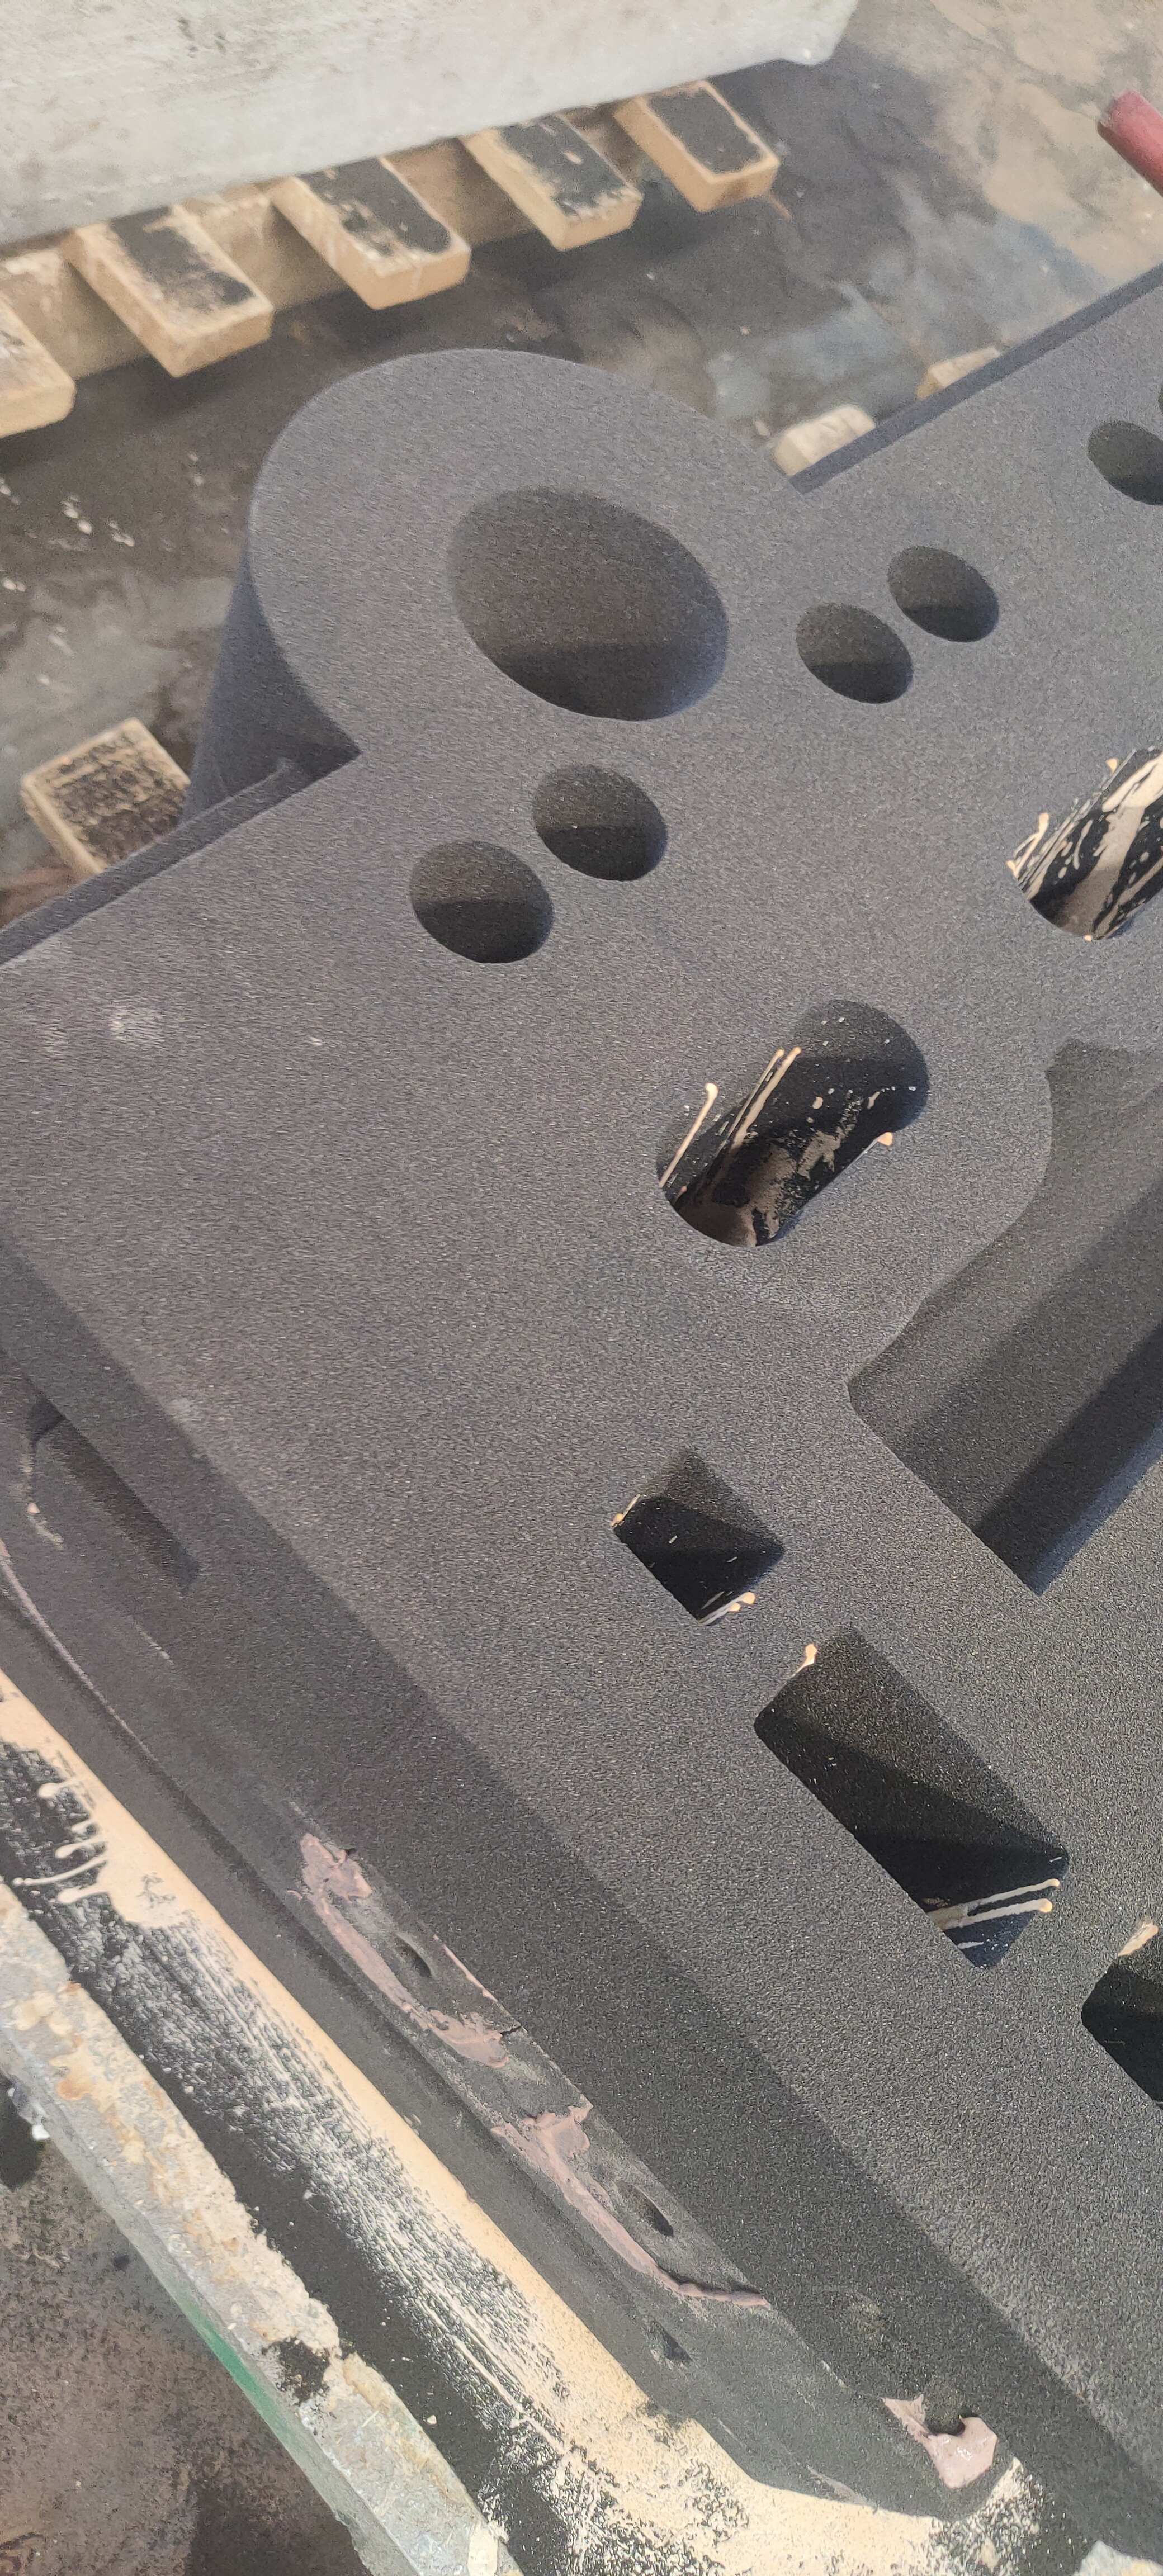pouring hole: (444, 483, 728, 720)
